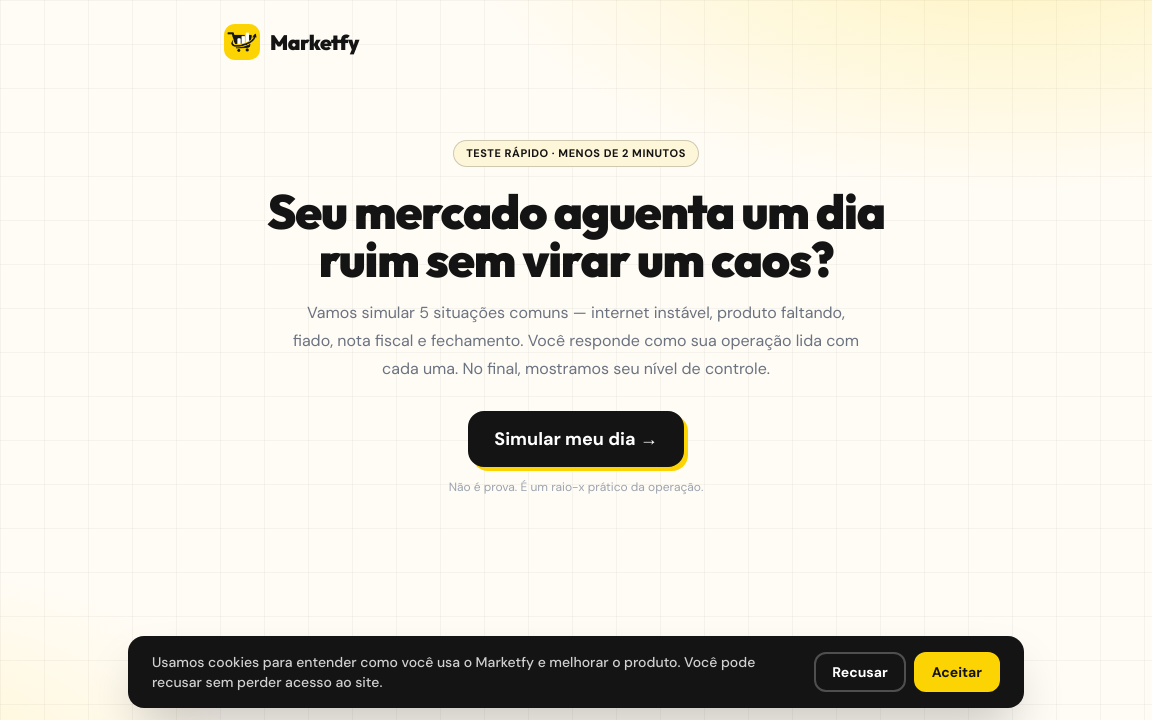
Scenario: FunilDiaDoMercado (/funil-b) › walks through the 5 scenarios and reaches the final screen with a score
What coordinates should you click on to do the following:
click the button "Simular meu dia →"
I would click on:
 (576, 438)
Its box is x1=468 y1=410 x2=684 y2=466.
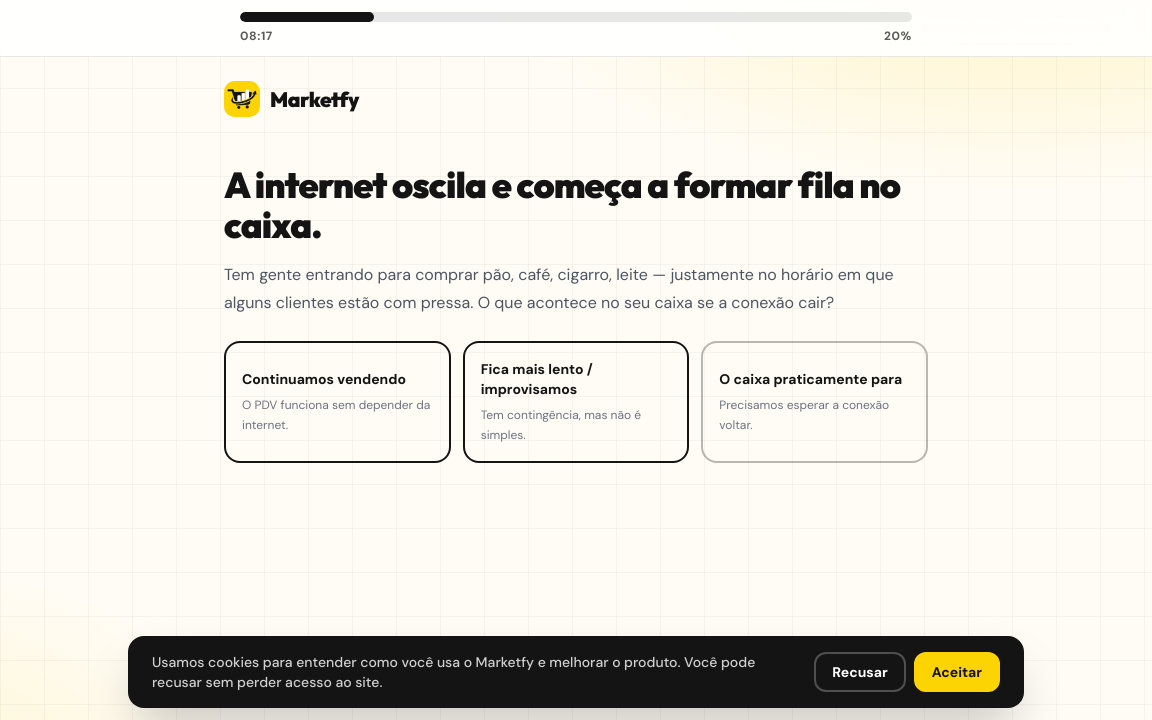
What coordinates should you click on to do the following:
click the button "Continuamos vendendo"
I would click on:
 (337, 402)
Its box is x1=224 y1=341 x2=451 y2=463.
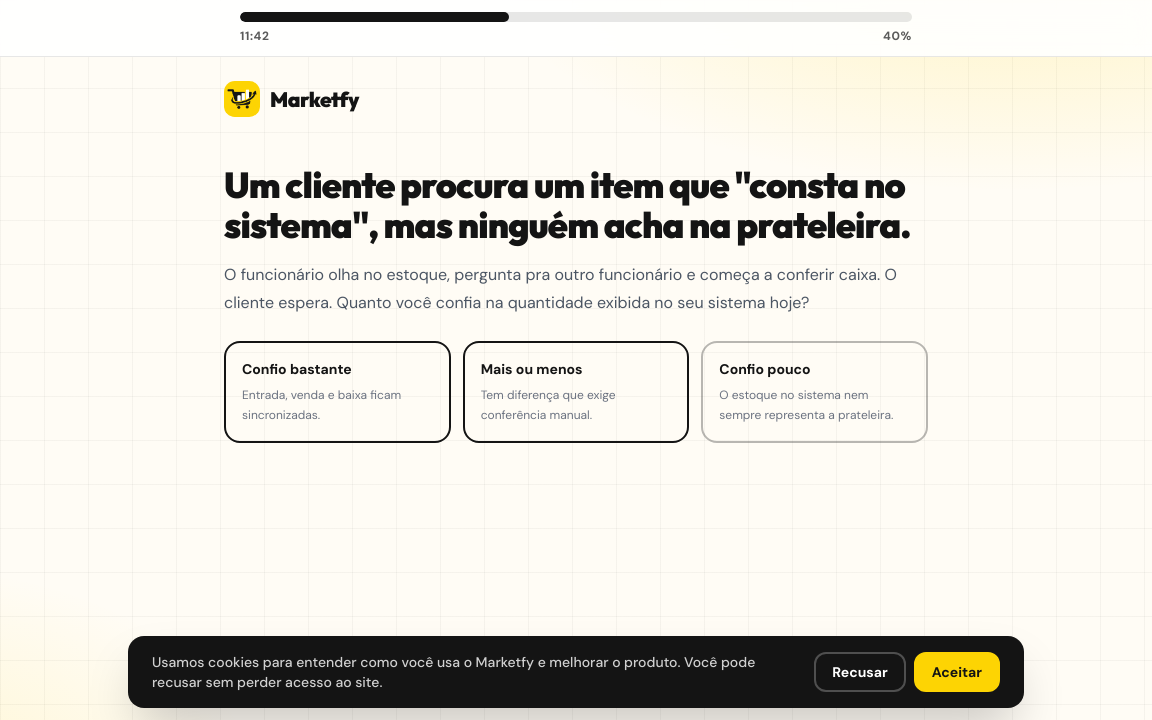
What coordinates should you click on to do the following:
click the button "Confio bastante Entrada, venda e baixa ficam sincronizadas."
I would click on:
 (337, 392)
Its box is x1=224 y1=341 x2=451 y2=443.
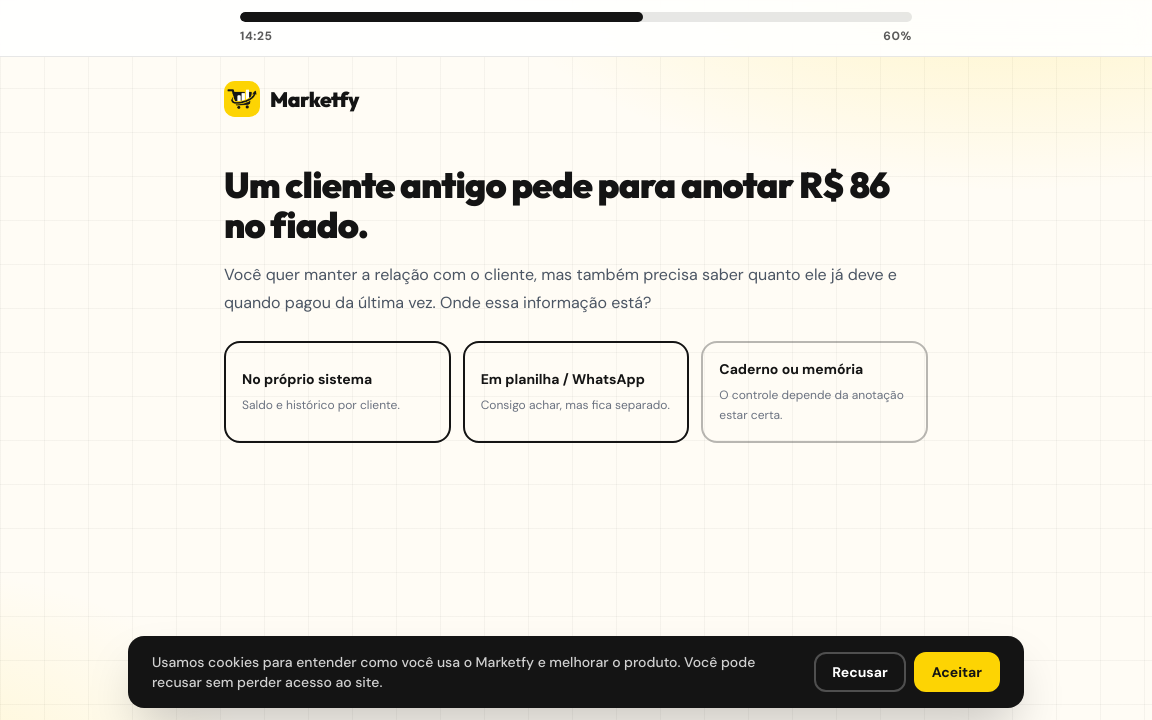
What coordinates should you click on to do the following:
click the button "No próprio sistema Saldo e histórico por cliente."
I would click on:
 (337, 392)
Its box is x1=224 y1=341 x2=451 y2=443.
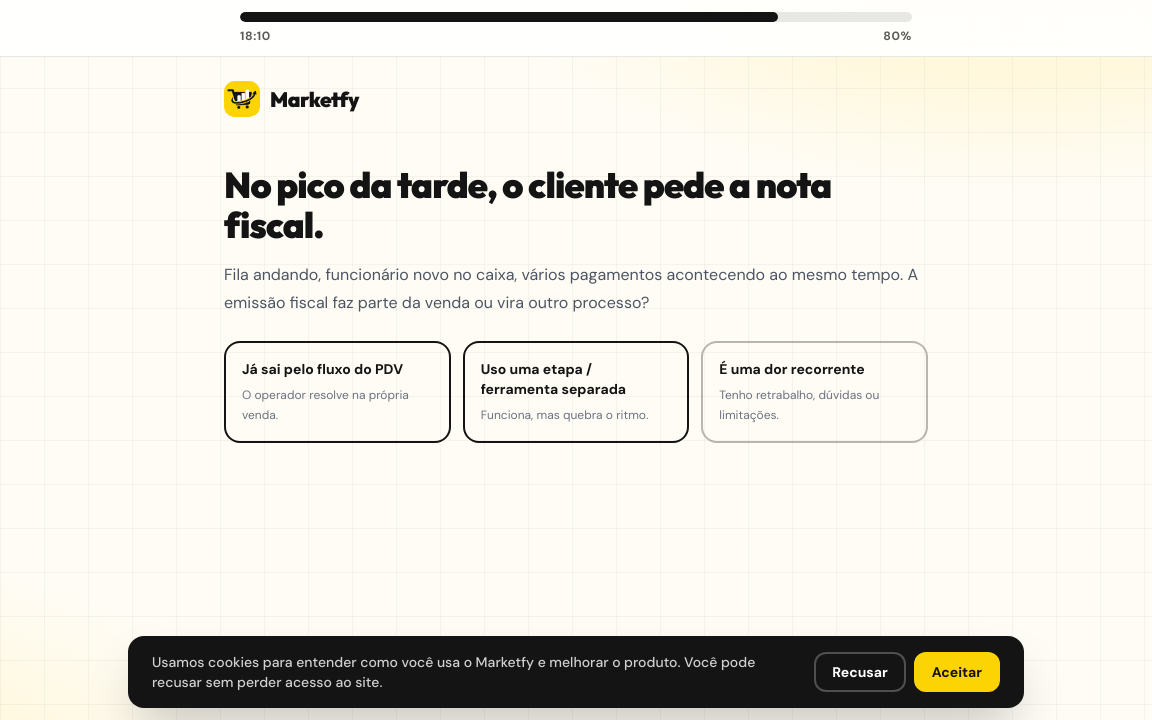
What coordinates should you click on to do the following:
click the button "Já sai pelo fluxo do PDV"
I would click on:
 (337, 392)
Its box is x1=224 y1=341 x2=451 y2=443.
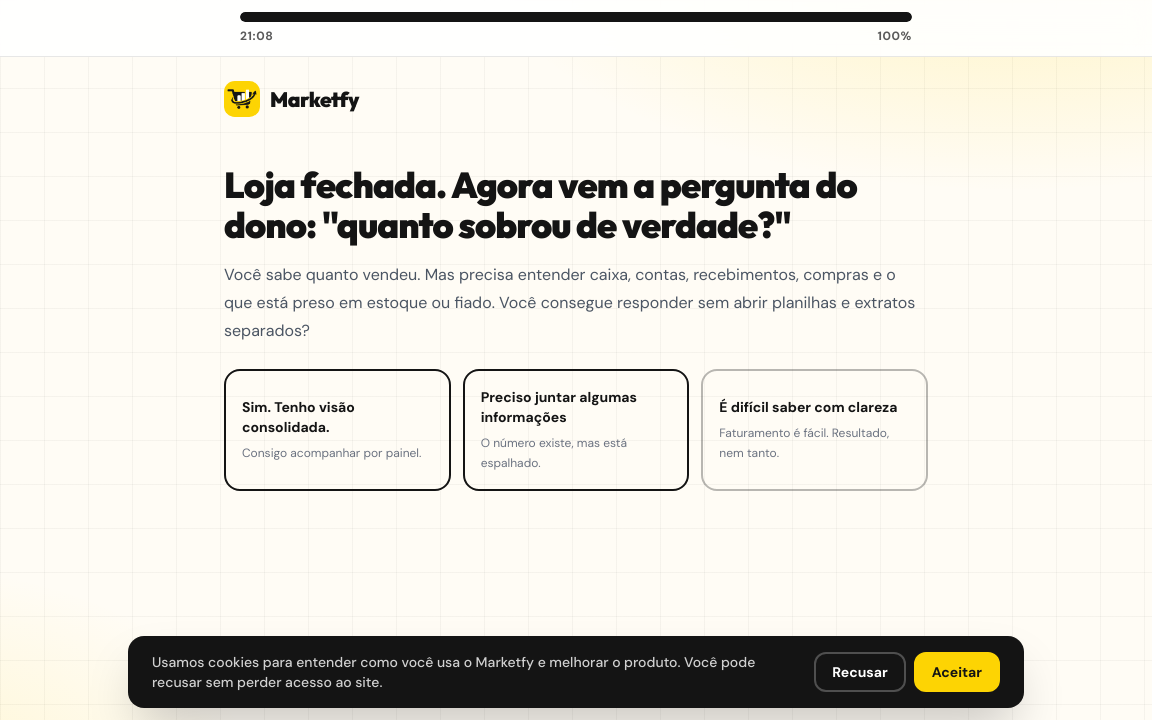
What coordinates should you click on to do the following:
click the button "Sim. Tenho visão consolidada. Consigo acompanhar por painel."
I would click on:
 (337, 430)
Its box is x1=224 y1=369 x2=451 y2=491.
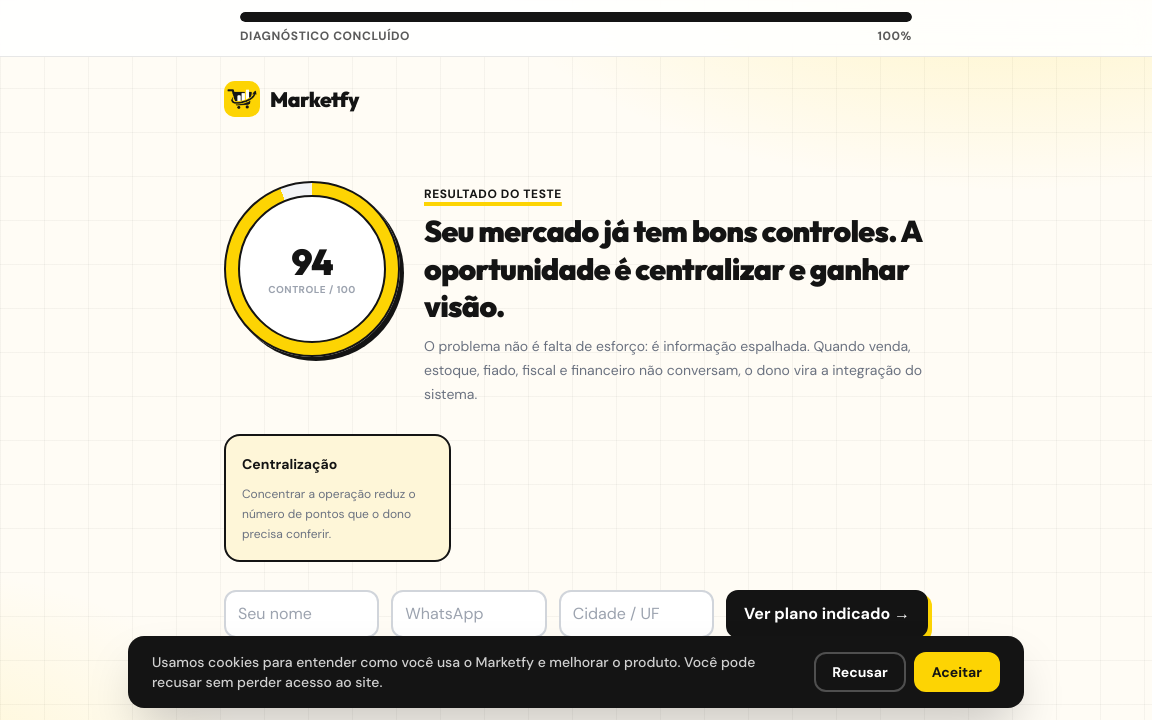
Result: the text "Resultado do teste" is shown at x1=424 y1=186 x2=562 y2=202
